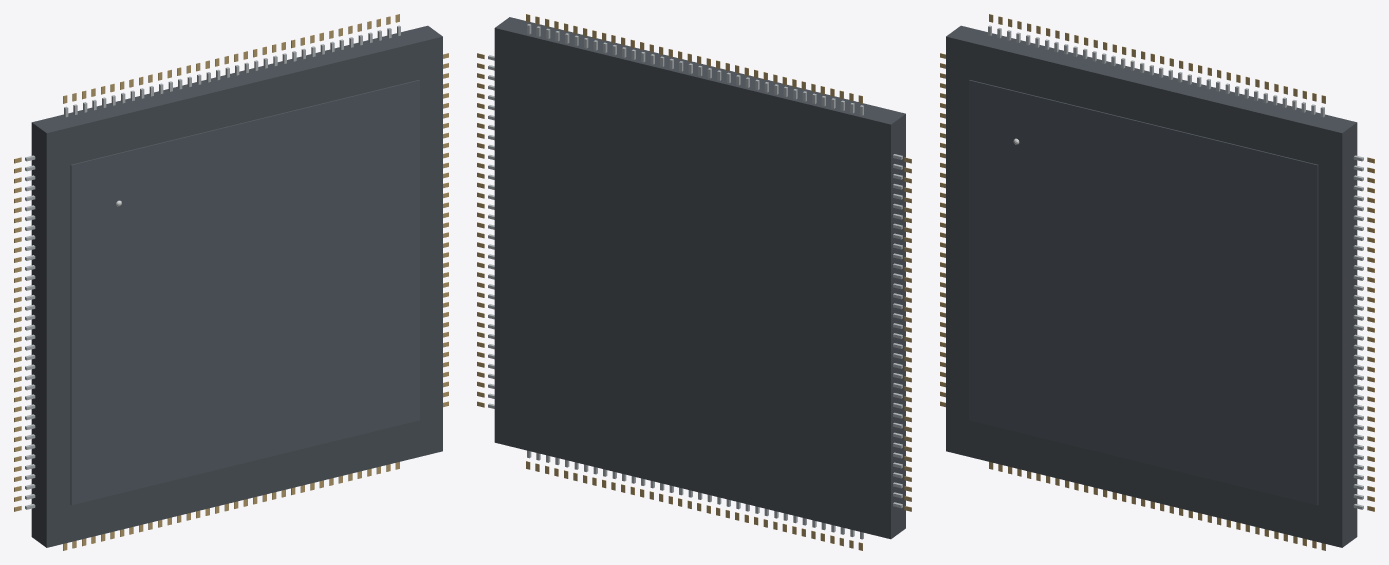
3 views of the same model, side by side, from view 1: azimuth 30°, elevation 25°; view 2: azimuth 150°, elevation 25°; view 3: azimuth 330°, elevation 25° (orthographic).
Visible parts, largest first — view 1: PART_001_Ceramic_Black, PART_000_IC_Epoxy; view 2: PART_000_IC_Epoxy; view 3: PART_001_Ceramic_Black, PART_000_IC_Epoxy.
Part boxes in pixels (bbox=[...]): PART_001_Ceramic_Black: bbox=[70, 80, 419, 505]; PART_000_IC_Epoxy: bbox=[31, 25, 442, 547]; PART_000_IC_Epoxy: bbox=[494, 17, 905, 539]; PART_001_Ceramic_Black: bbox=[969, 80, 1318, 505]; PART_000_IC_Epoxy: bbox=[946, 25, 1357, 547].
Bounding box in the file's own units: 0.0285 × 0.0285 × 0.00195.
